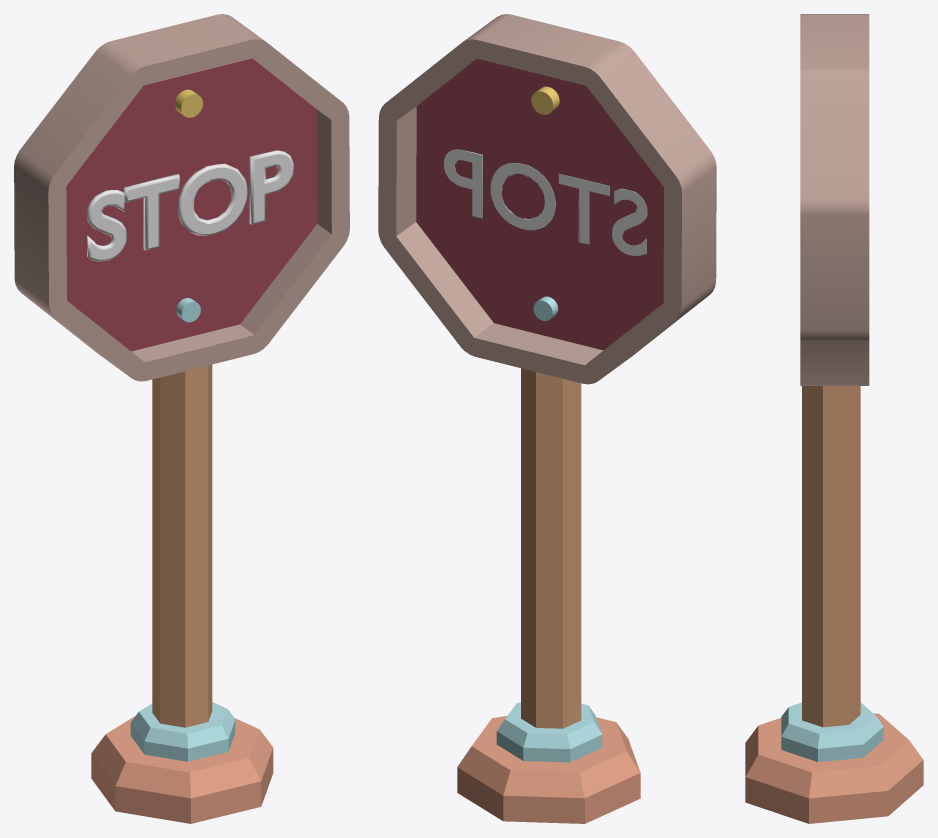
File: SIGN.fbx
3 views of the same model, side by side, from view 1: azimuth 30°, elevation 25°; view 2: azimuth 150°, elevation 25°; view 3: azimuth 270°, elevation 25° (orthographic).
Parts seen in each view (by area): view 1: Circle, Circle.003, Circle.002, Text, Circle.001, Cylinder.001; view 2: Circle, Circle.003, Circle.002, Text, Circle.001, Cylinder.001; view 3: Circle, Circle.003, Circle.002, Circle.001.
Part boxes in pixels (x1,y1,x2,y2): Circle: (14, 14, 349, 381); Circle.003: (152, 364, 212, 727); Circle.002: (91, 716, 273, 823); Text: (86, 150, 293, 261); Circle.001: (130, 702, 235, 761); Cylinder.001: (175, 89, 202, 117); Circle: (378, 14, 716, 384); Circle.003: (521, 368, 581, 728); Circle.002: (457, 715, 640, 823); Text: (443, 149, 647, 256); Circle.001: (496, 702, 602, 762); Cylinder.001: (531, 86, 559, 114); Circle: (800, 14, 869, 385); Circle.003: (802, 386, 860, 727); Circle.002: (745, 713, 923, 823); Circle.001: (781, 702, 883, 761).
Size of the model in its own units: 221 by 520 by 113.
